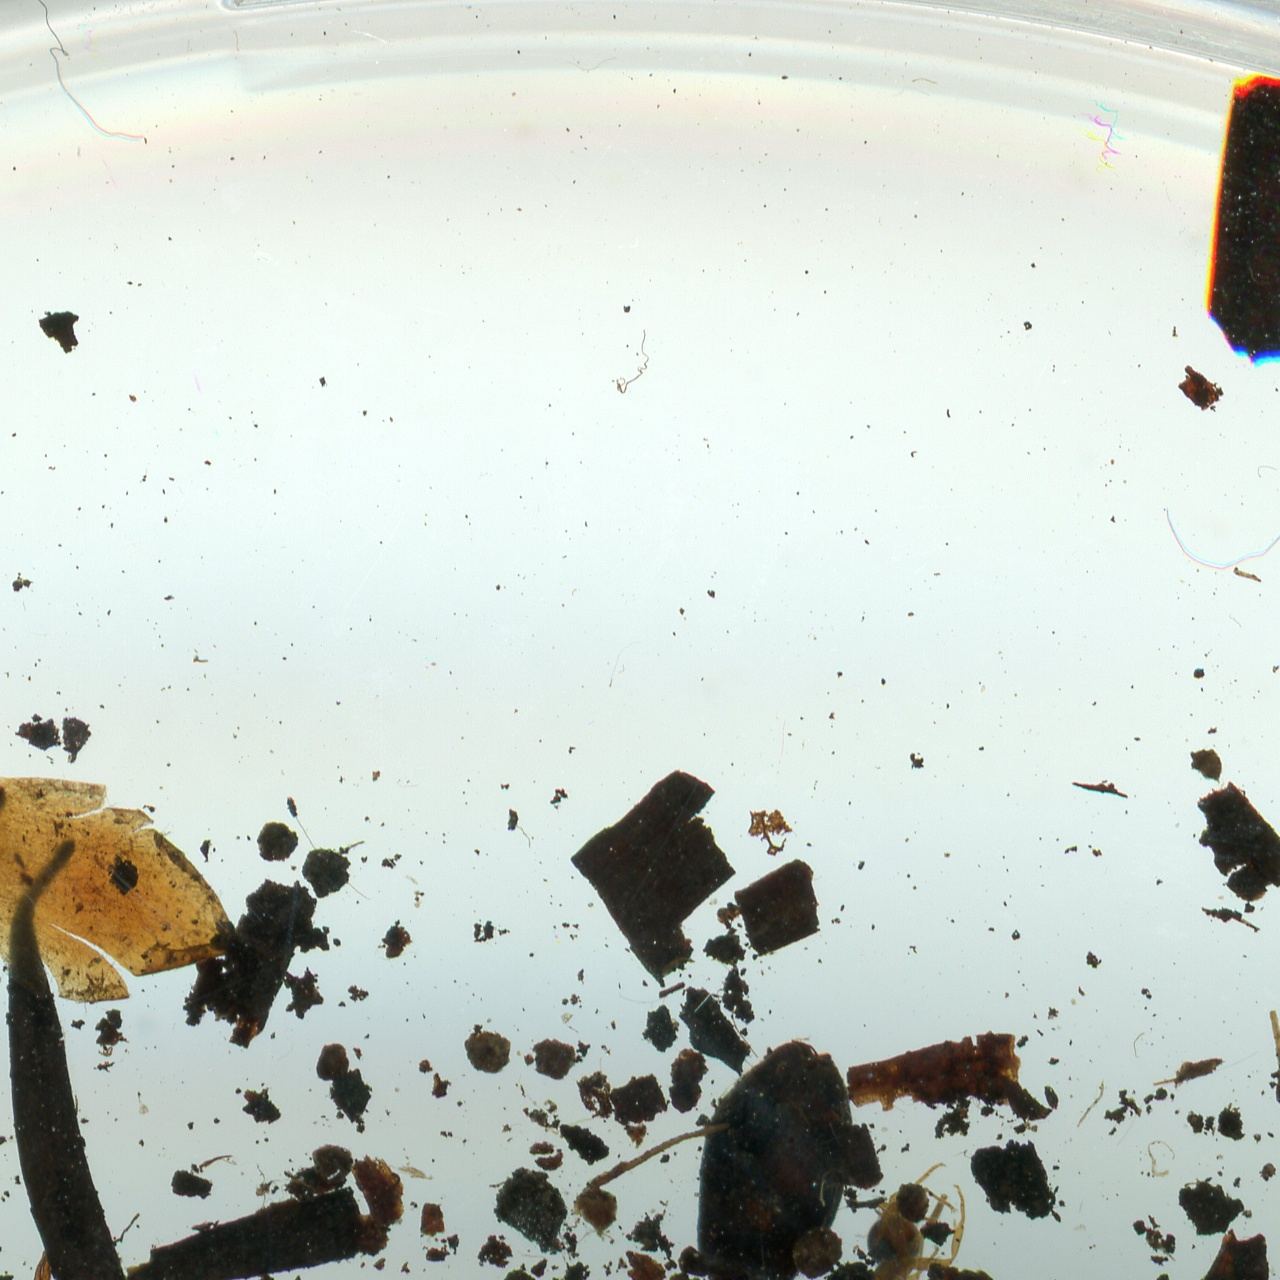arthropod: (832, 1163, 975, 1280)
